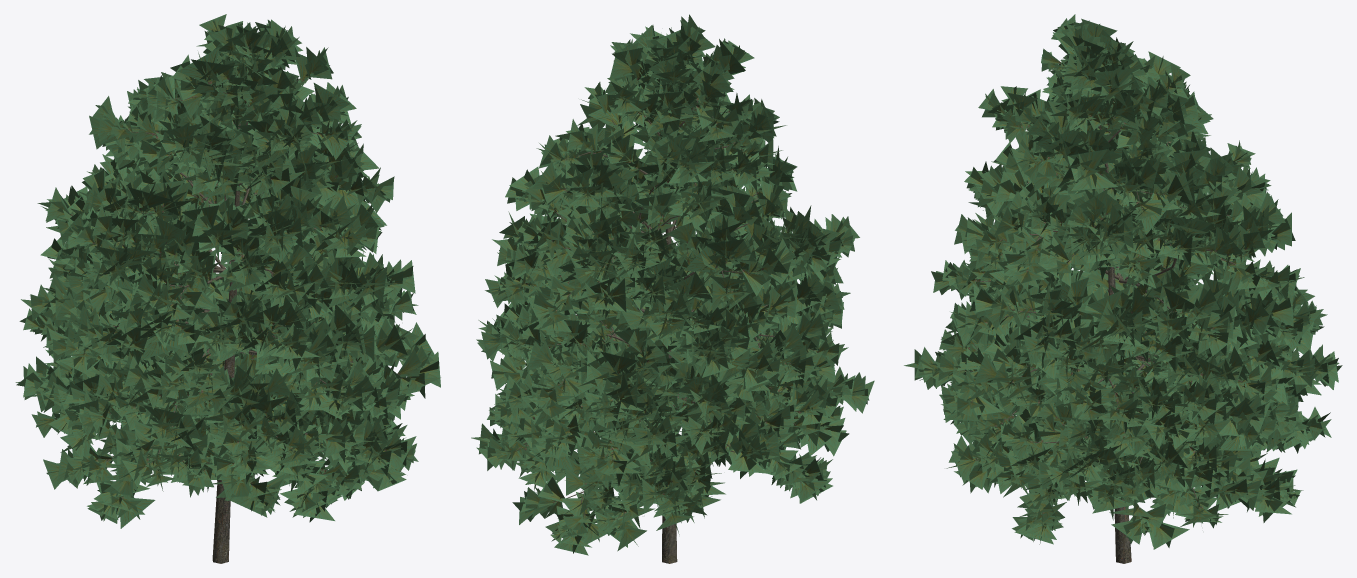
The model's file is planet_treeA.glb.
The picture shows the model from 3 angles, left to right: view 1: azimuth 30°, elevation 25°; view 2: azimuth 150°, elevation 25°; view 3: azimuth 270°, elevation 25°; orthographic projection. The views are drawn at different scales.
Parts seen in each view (by area): view 1: bq_Tree_Larix-decidua_A_spring-summer; view 2: bq_Tree_Larix-decidua_A_spring-summer; view 3: bq_Tree_Larix-decidua_A_spring-summer.
Boxes of the visible parts, x1,y1,x2,y2 form: bq_Tree_Larix-decidua_A_spring-summer: [15, 14, 440, 563]; bq_Tree_Larix-decidua_A_spring-summer: [471, 14, 874, 563]; bq_Tree_Larix-decidua_A_spring-summer: [904, 14, 1342, 563].
Size of the model in its own units: 3.61 by 5.2 by 3.84.
Materials: 2 (2 with a texture image).
